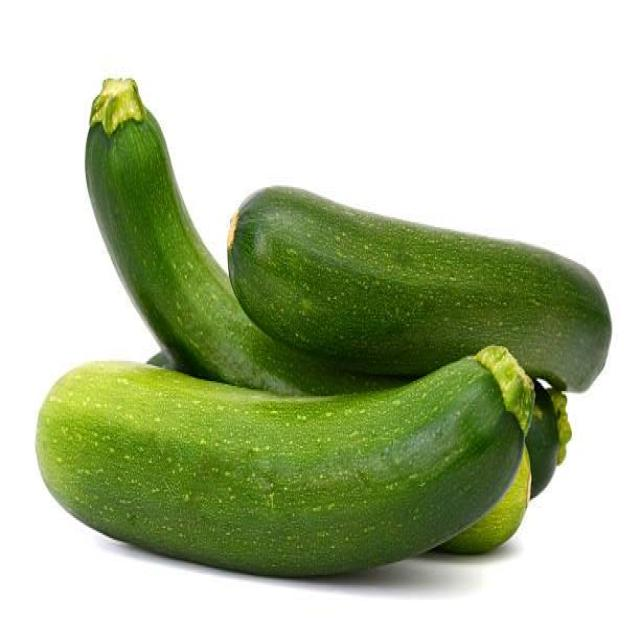Courgette: (36, 349, 534, 575), (86, 80, 381, 394), (228, 185, 610, 389)
